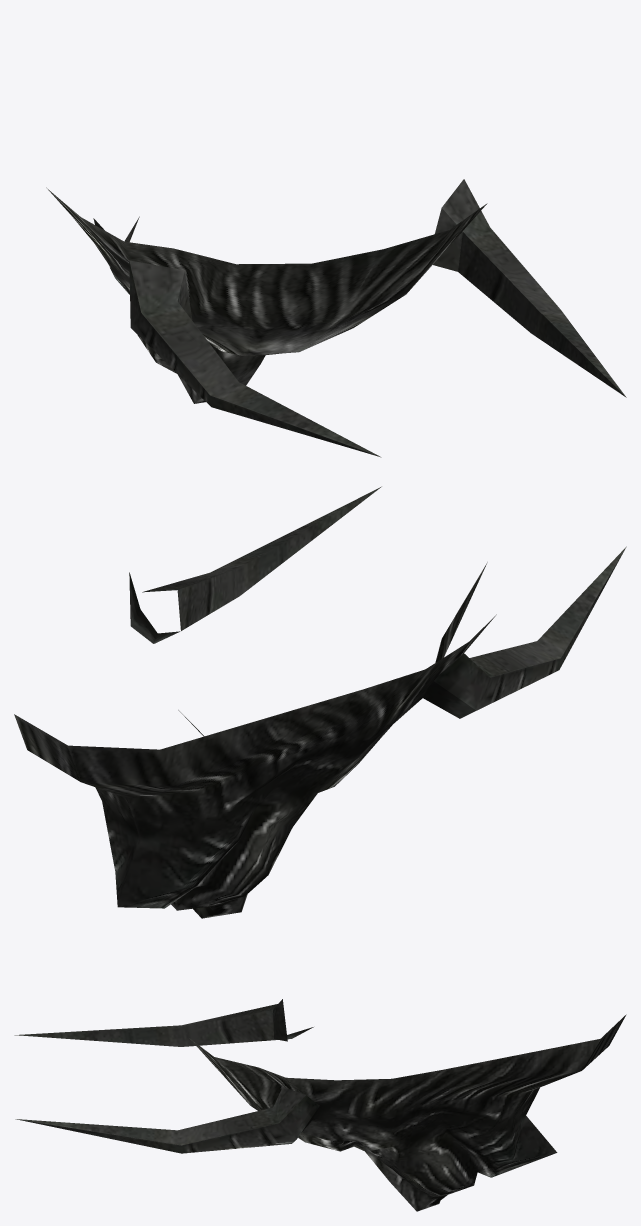
The picture shows the model from 3 angles, top to bottom: view 1: azimuth 30°, elevation 25°; view 2: azimuth 150°, elevation 25°; view 3: azimuth 270°, elevation 25°; orthographic projection. The views are drawn at different scales.
Parts seen in each view (by area): view 1: model_Object113; view 2: model_Object113; view 3: model_Object113.
Part boxes in pixels (x1,y1,x2,y2): model_Object113: (46,179,626,457); model_Object113: (14,486,626,918); model_Object113: (14,999,626,1211).
Bounding box in the file's own units: 1.27 × 0.8551 × 2.48.
1 material, 1 textured.
